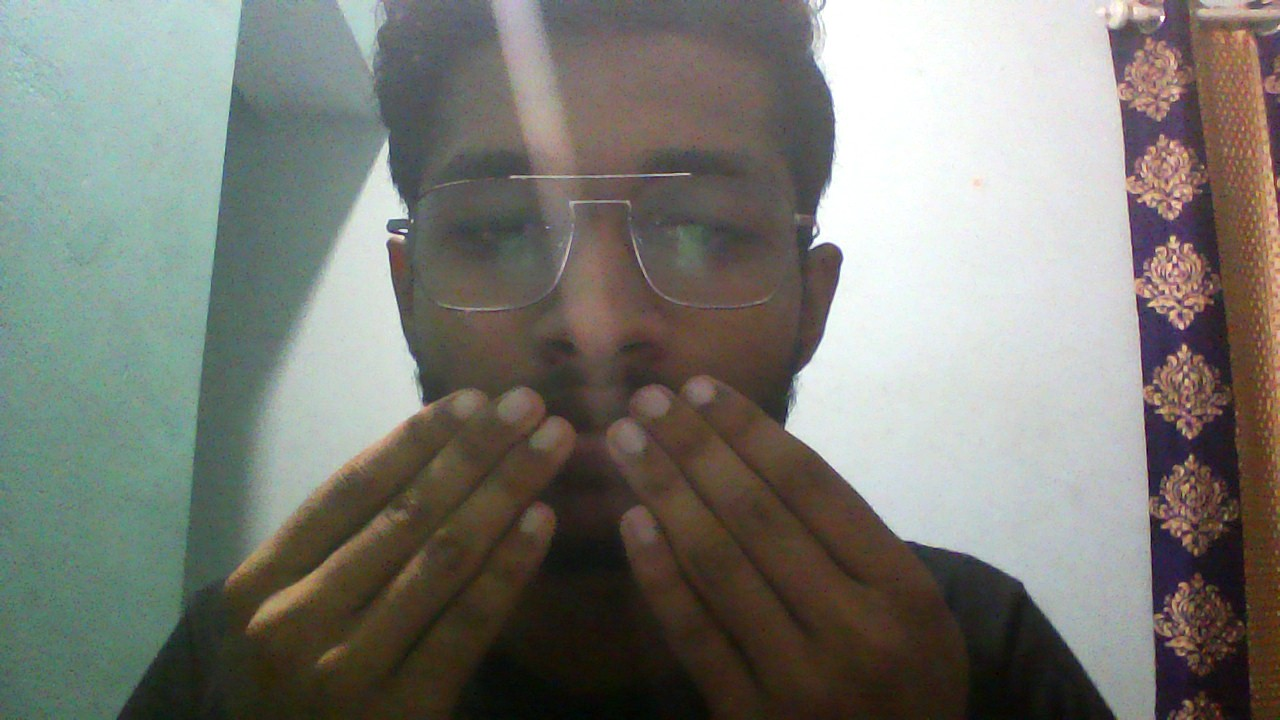Thanks: (221, 366, 974, 720)
